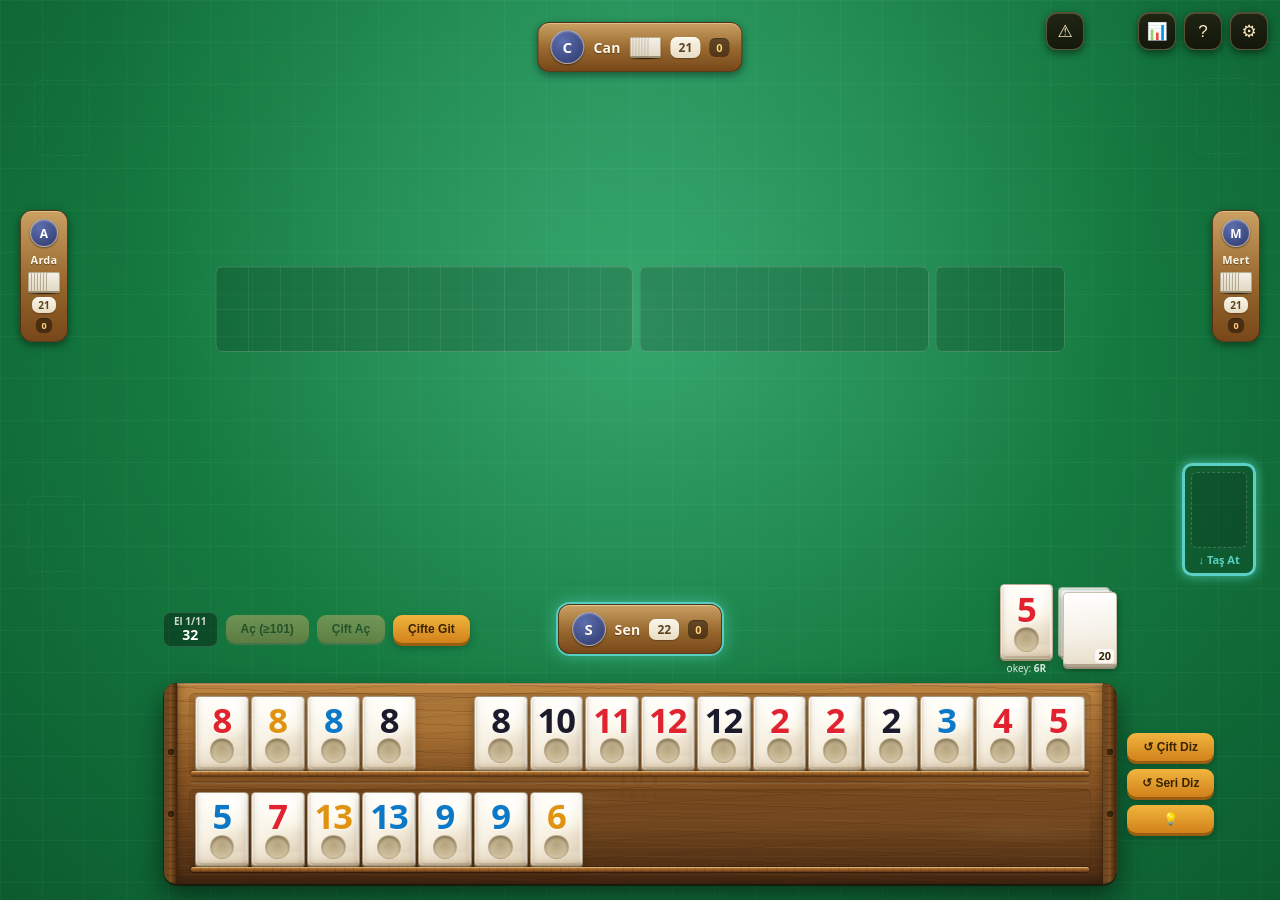
Test: In-game help modal › opens a help modal with 101 rules from the in-game ? button
The width and height of the screenshot is (1280, 900).
Click the button named "Nasıl Oynanır?": {"x": 1203, "y": 31} left=1184, top=12, right=1222, bottom=50
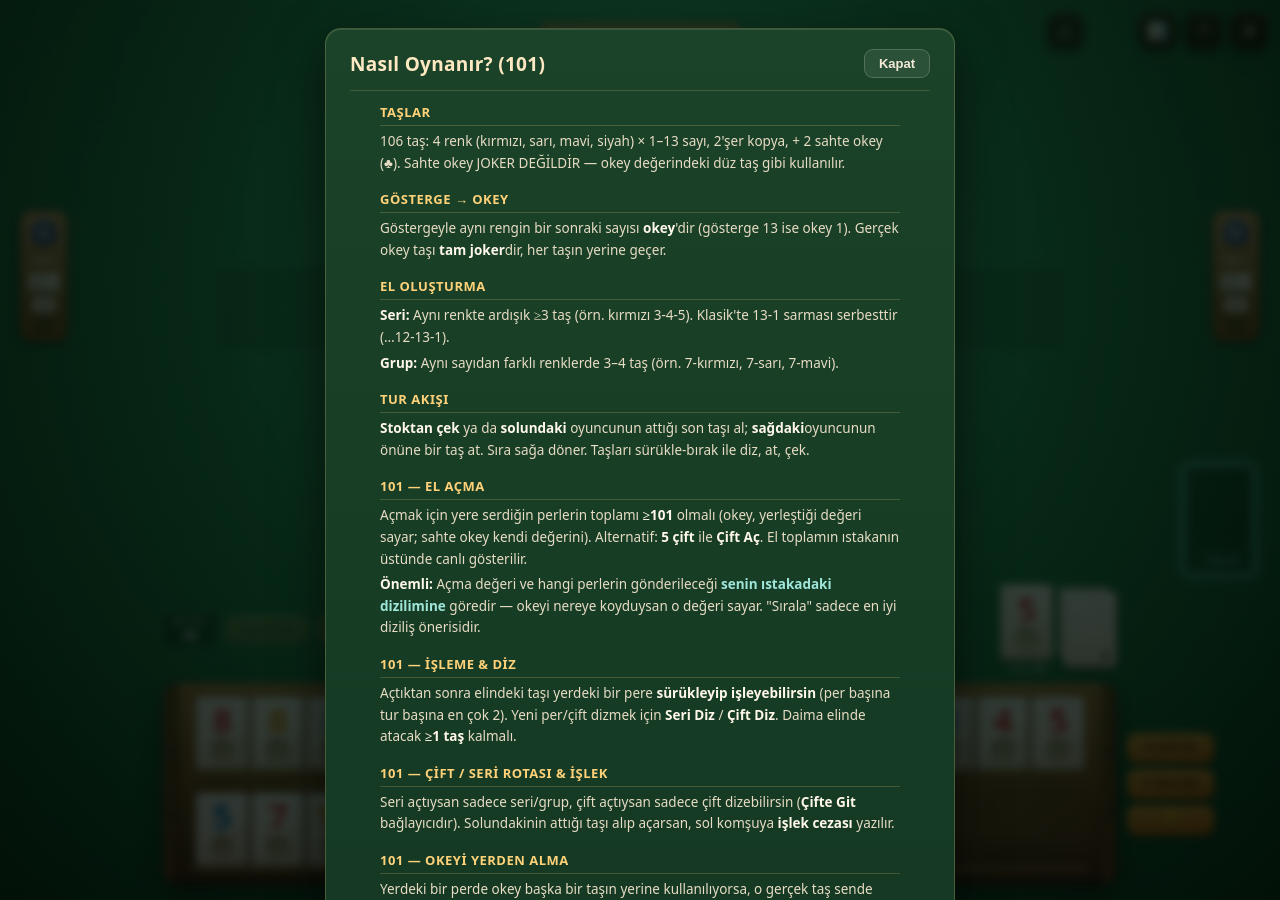
Expected: the dialog with test id "help-modal" is shown
Expected: the heading "101 — El Açma" is shown, left=380, top=477, right=900, bottom=500
